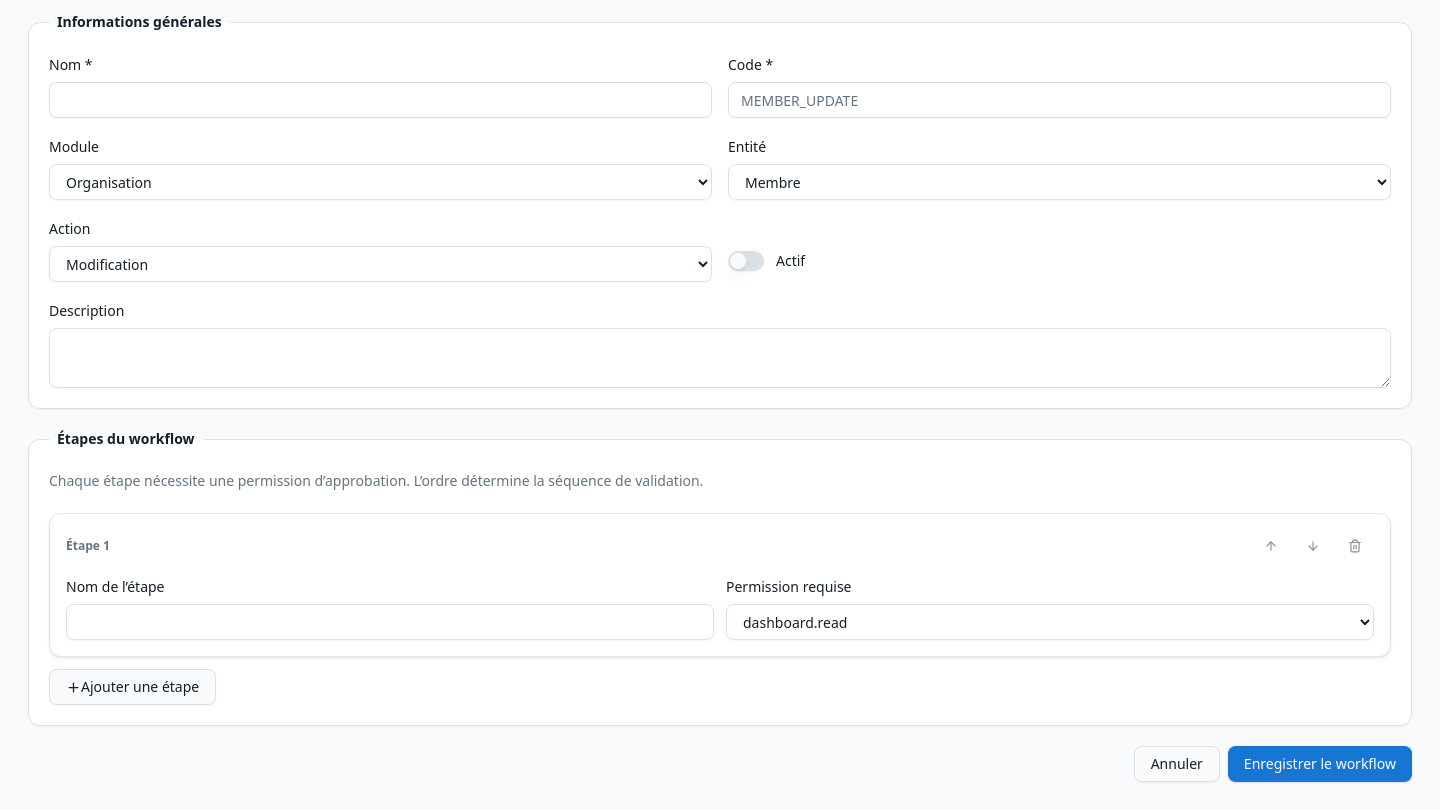
Test: ValidationWorkflowCreate — création d’un workflow › permet d’ajouter/réordonner/supprimer des étapes avant soumission
(page scrolled)
Click the button "Ajouter une étape": click(133, 687) [49,669,216,705]
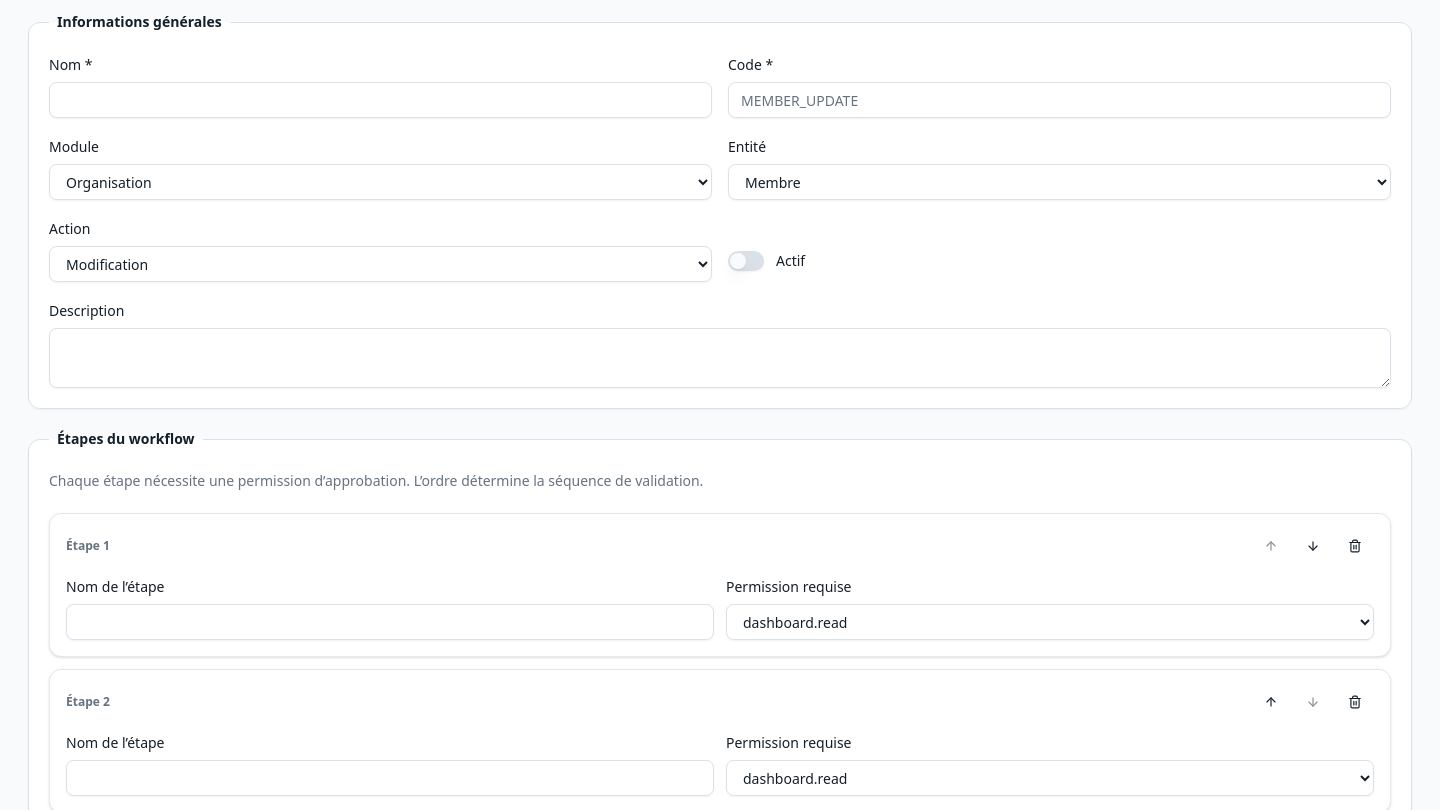
Expected: the number of fields labelled "Nom de l’étape" is 2
In the field labelled "Nom de l’étape" below "Étape 1": (390, 622) [66,604,714,640], type "Première étape"
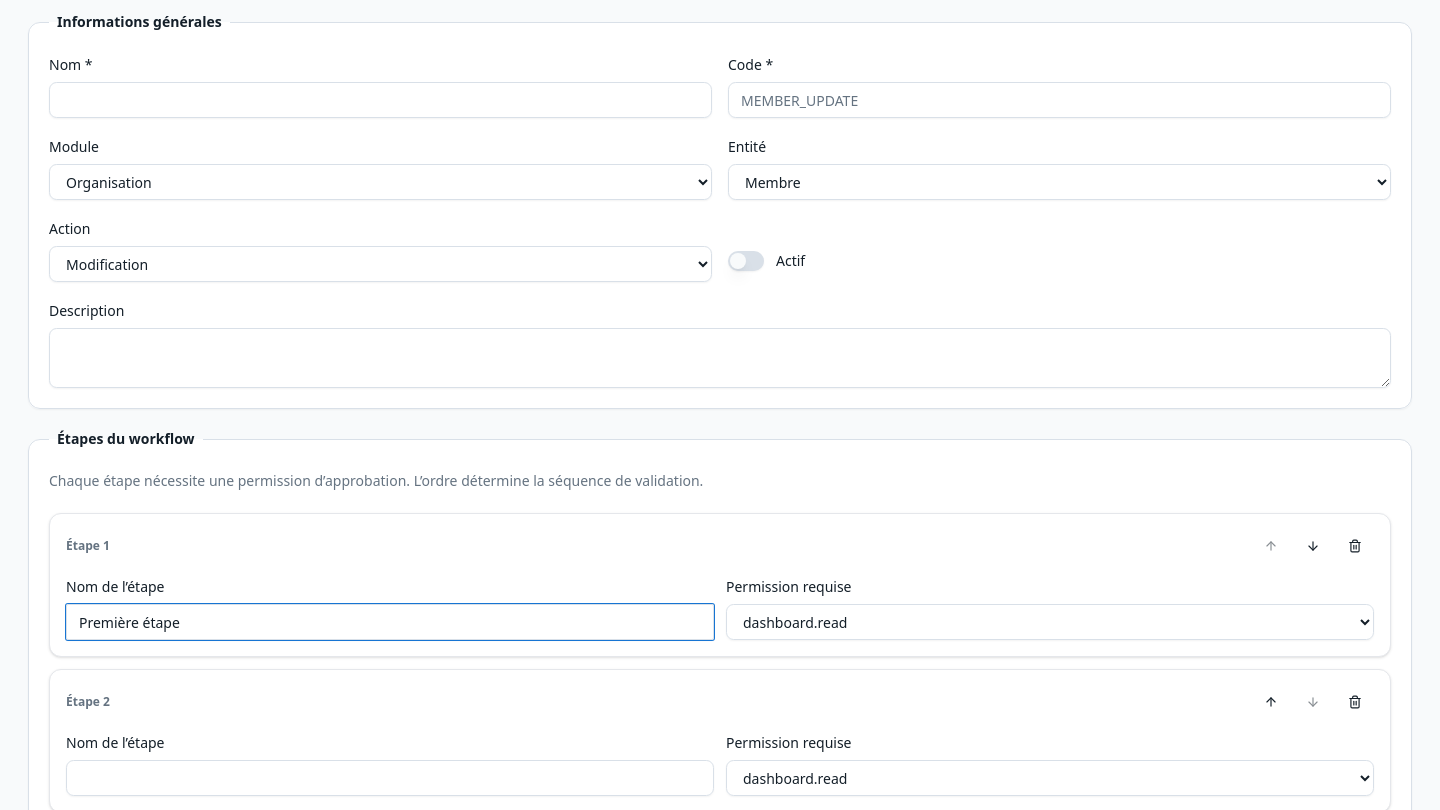
In the field labelled "Nom de l’étape" below "Étape 2": (390, 778) [66,760,714,796], type "Deuxième étape"
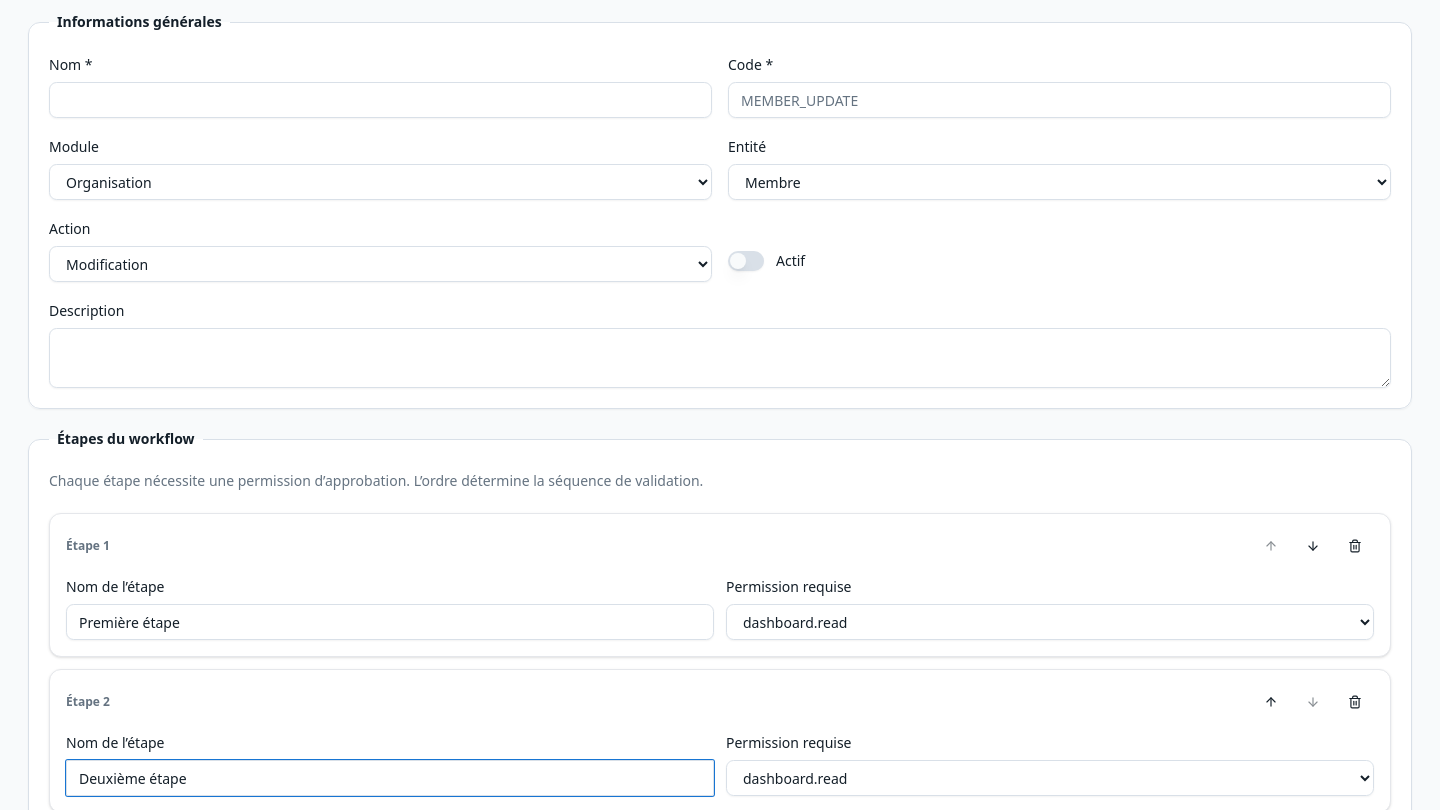
# Monte la deuxième étape en première position.
Click the button named "Monter" in the row of "Étape 2": click(1271, 702) [1252,686,1290,718]
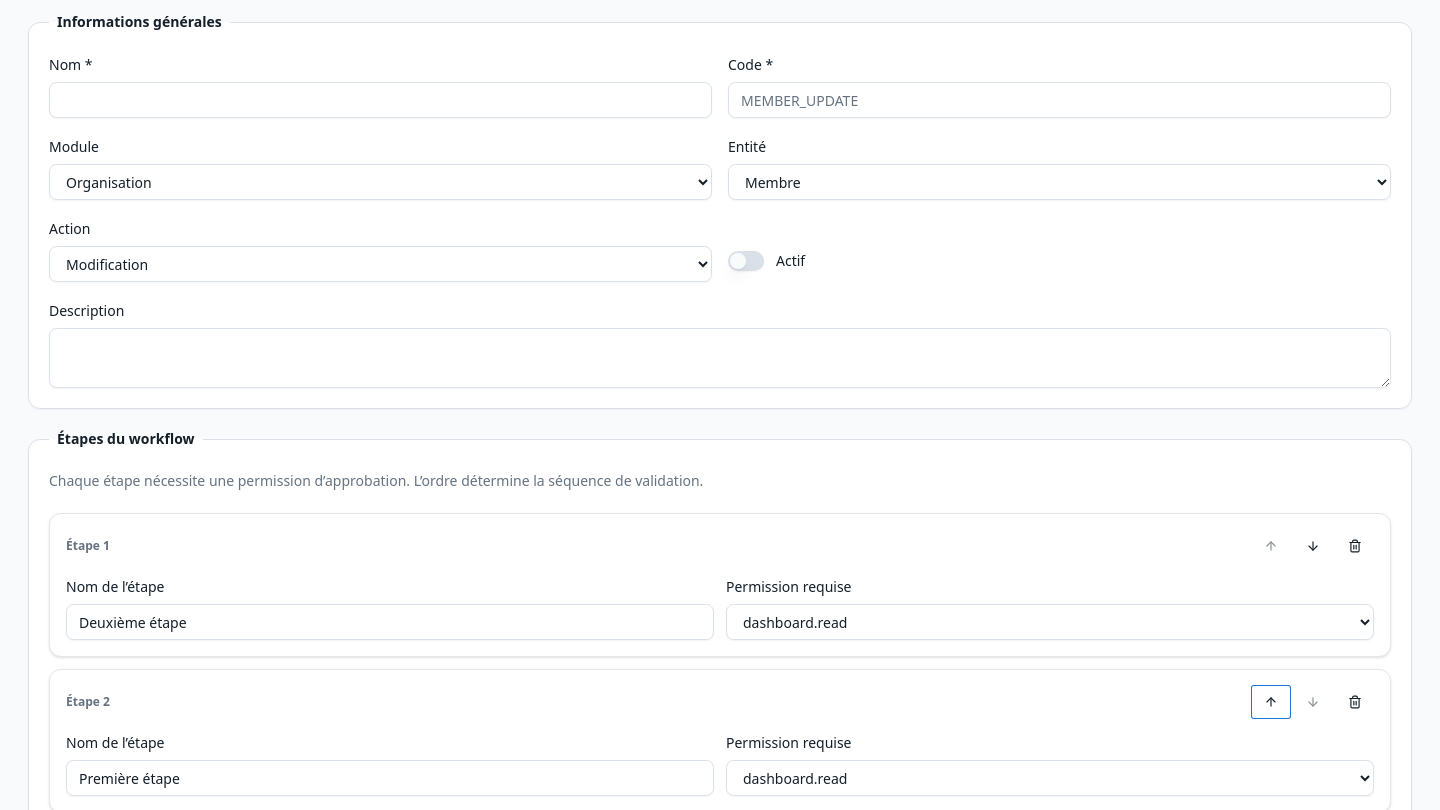
Expected: the field showing "Deuxième étape" below "Étape 1" is shown, [66,604,714,640]
Click the button named "Supprimer l’étape" in the row of "Étape 2": click(1355, 702) [1336,686,1374,718]
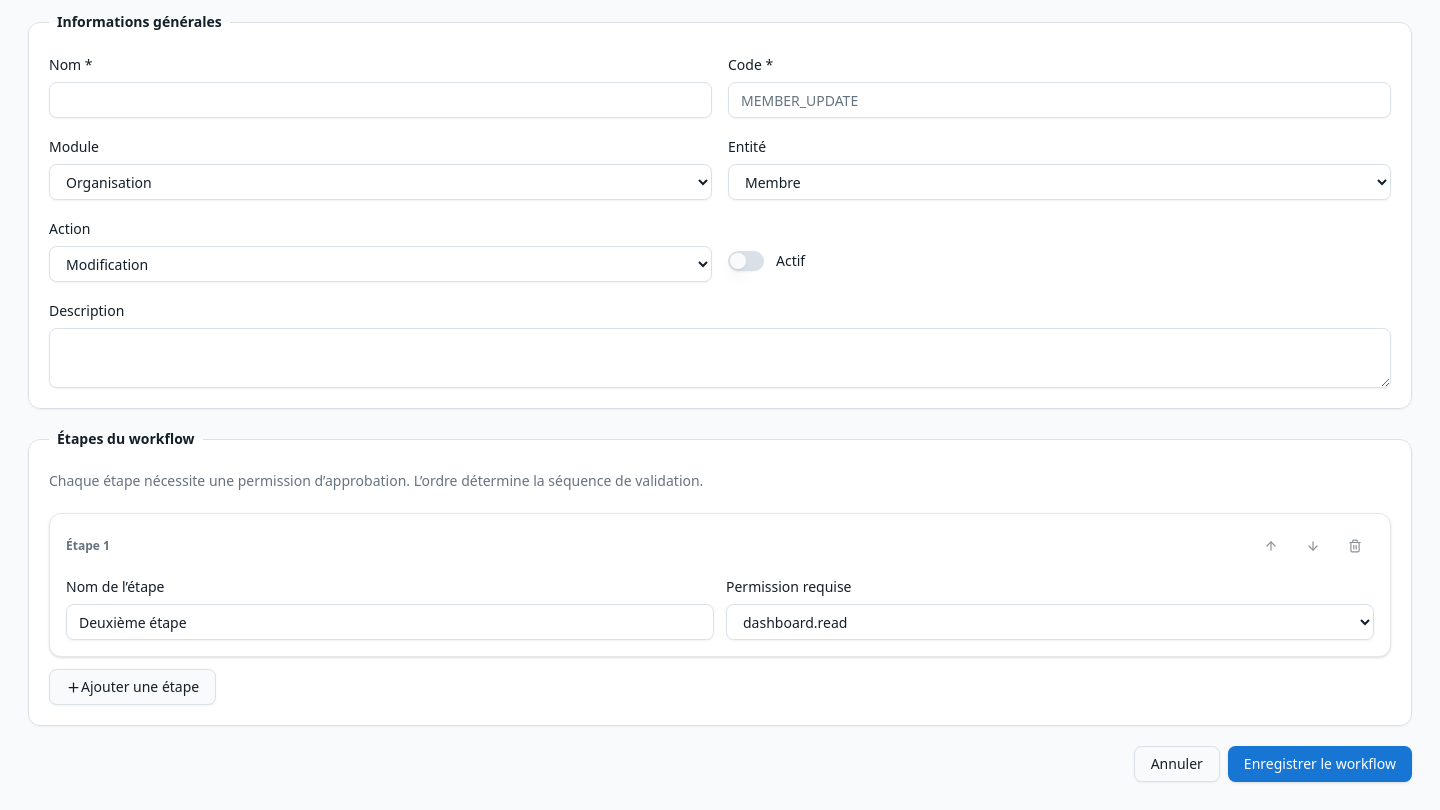
Expected: the number of fields labelled "Nom de l’étape" is 1, [66,604,714,640]
